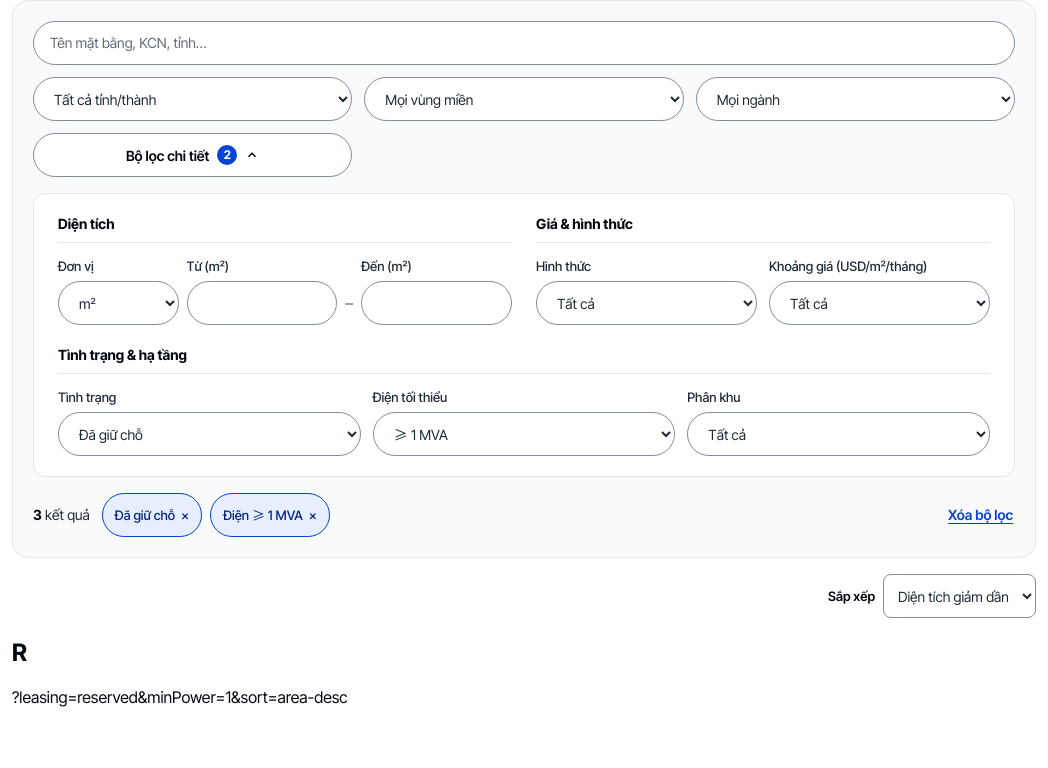
Test case: filter UI: URL round trip, counter, chips, clear › restores filters from the URL and clearing keeps the sort
Expected: the dropdown labelled "Tình trạng" shows "Đã giữ chỗ", 58,412 -> 361,456
Expected: the dropdown labelled "Điện tối thiểu" shows "≥ 1 MVA", 373,412 -> 675,456
Click the button "Xóa bộ lọc": (980, 515) 946,493 -> 1015,537
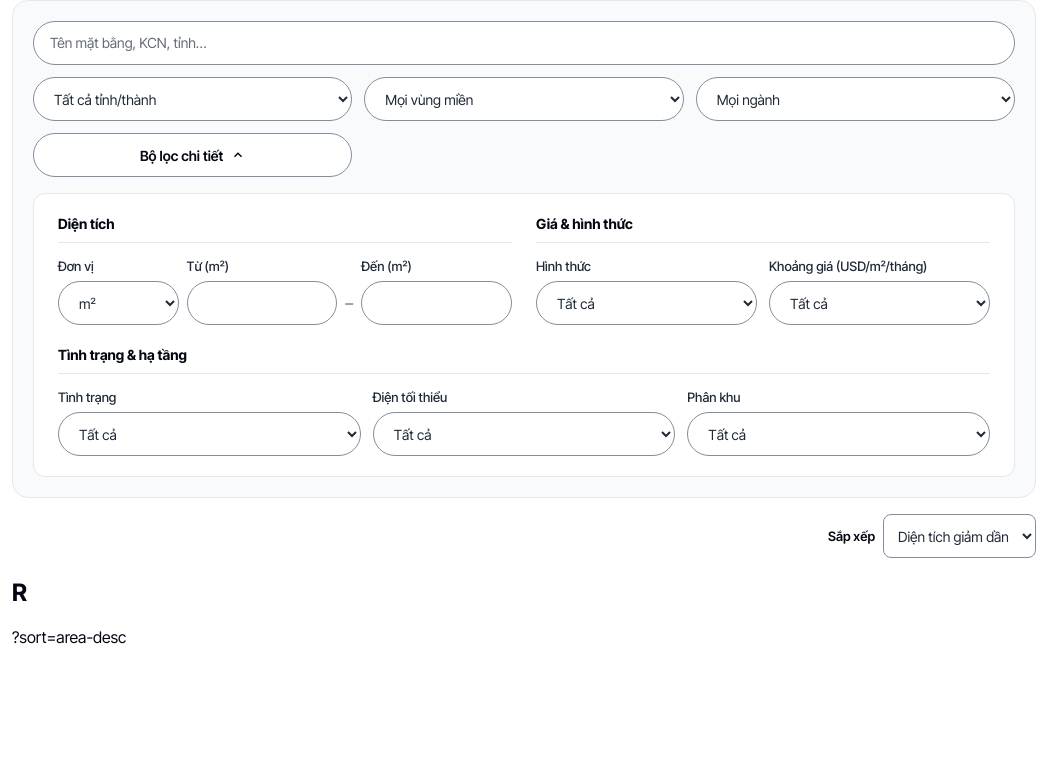
Now the text with test id "query" reads "?sort=area-desc", box 12,627 -> 126,647
